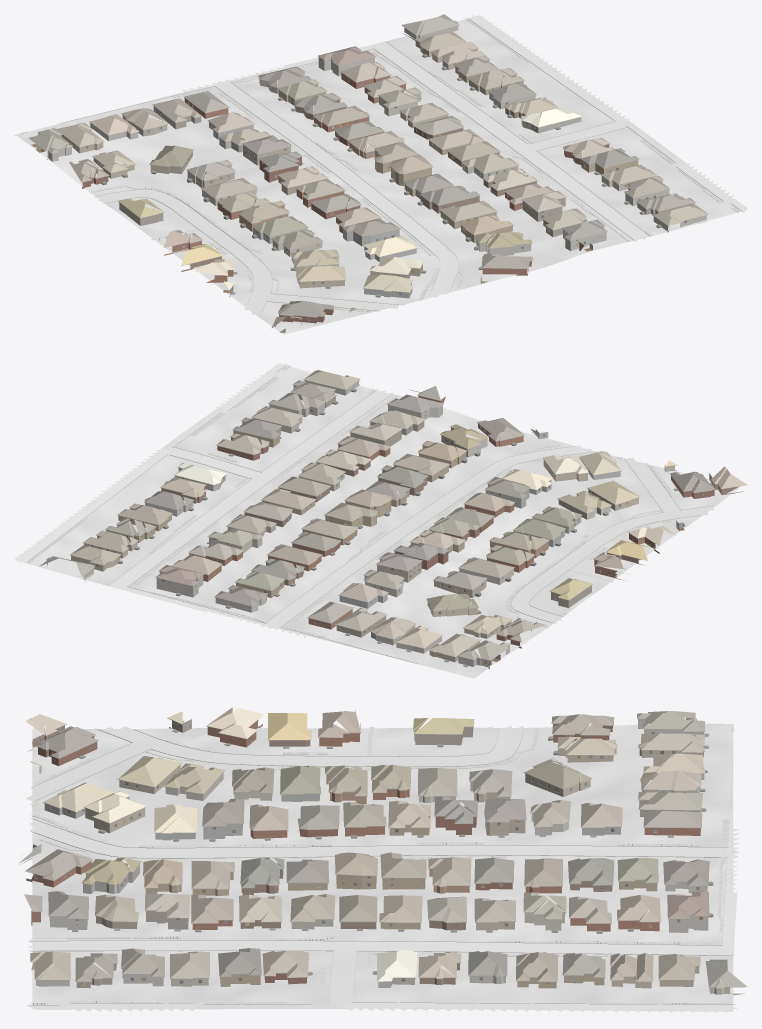
3 views of the same model, one above another, from view 1: azimuth 30°, elevation 25°; view 2: azimuth 150°, elevation 25°; view 3: azimuth 270°, elevation 25° (orthographic). The views are drawn at different scales.
Visible parts, largest first — view 1: ground, roof, concrete, wall, detail, wall_stucco, walk, curb, wall_stone, asphalt, glass; view 2: ground, roof, concrete, wall, detail, wall_stucco, walk, curb, wall_stone, asphalt, glass; view 3: roof, ground, concrete, wall, curb, detail, walk, wall_stucco, asphalt, wall_stone, glass.
Part boxes in pixels (bbox=[...]): ground: bbox=[16, 15, 747, 334]; roof: bbox=[29, 14, 707, 328]; concrete: bbox=[93, 41, 647, 314]; wall: bbox=[61, 40, 694, 324]; detail: bbox=[38, 25, 707, 327]; wall_stucco: bbox=[122, 26, 653, 298]; walk: bbox=[17, 18, 740, 311]; curb: bbox=[14, 18, 742, 315]; wall_stone: bbox=[38, 51, 706, 255]; asphalt: bbox=[470, 15, 746, 212]; glass: bbox=[86, 58, 686, 320]; ground: bbox=[14, 363, 739, 678]; roof: bbox=[39, 370, 747, 660]; concrete: bbox=[108, 391, 713, 637]; wall: bbox=[71, 385, 743, 662]; detail: bbox=[65, 379, 741, 667]; wall_stucco: bbox=[47, 417, 676, 645]; walk: bbox=[26, 365, 675, 677]; curb: bbox=[25, 365, 716, 664]; wall_stone: bbox=[145, 380, 548, 668]; asphalt: bbox=[14, 363, 286, 562]; glass: bbox=[91, 409, 720, 657]; roof: bbox=[24, 707, 747, 988]; ground: bbox=[32, 723, 733, 1011]; concrete: bbox=[25, 726, 739, 1008]; wall: bbox=[26, 719, 703, 988]; curb: bbox=[28, 728, 736, 1005]; detail: bbox=[20, 718, 744, 988]; walk: bbox=[30, 724, 733, 1004]; wall_stucco: bbox=[39, 765, 744, 995]; asphalt: bbox=[27, 1002, 737, 1012]; wall_stone: bbox=[18, 718, 708, 986]; glass: bbox=[34, 722, 699, 983].
Size of the model in its own units: 264 by 14.4 by 262.
